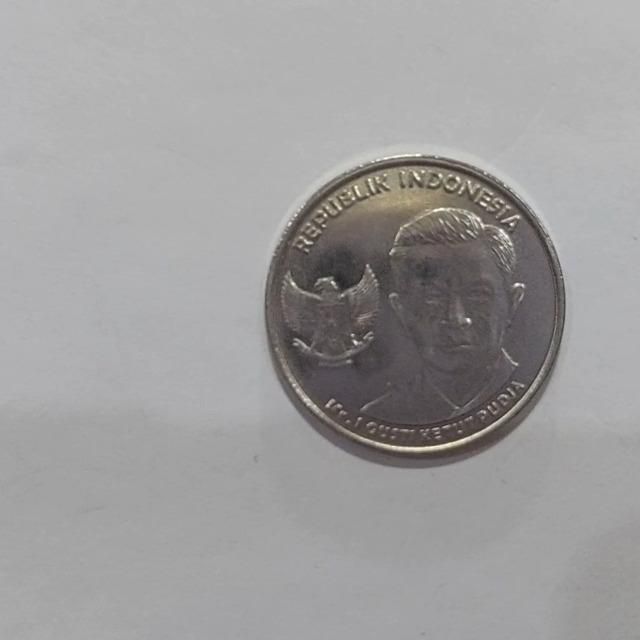Rp100: (262, 149, 568, 464)
